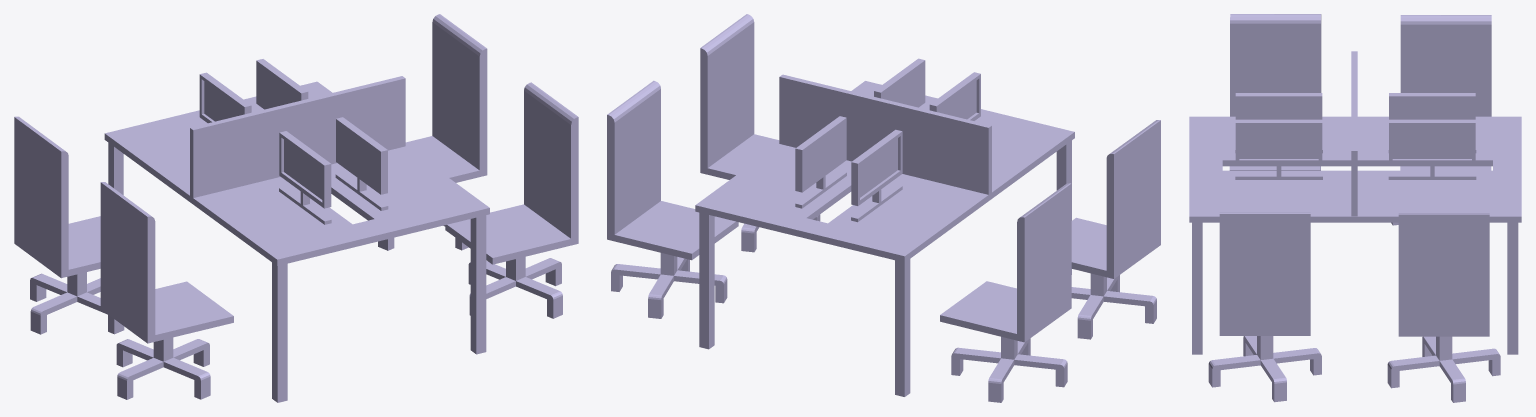
File: SHF_ work desk.fbx
3 renders of one model, left to right at view 1: azimuth 30°, elevation 25°; view 2: azimuth 150°, elevation 25°; view 3: azimuth 270°, elevation 25°, orthographic. The views are drawn at different scales.
Visible parts, largest first — view 1: Cube.018; view 2: Cube.018; view 3: Cube.018.
Boxes of the visible parts, x1,y1,x2,y2 form: Cube.018: (14,14,578,402); Cube.018: (607,14,1160,402); Cube.018: (1189,14,1521,402).
Bounding box in the file's own units: 217 × 97.92 × 144.
